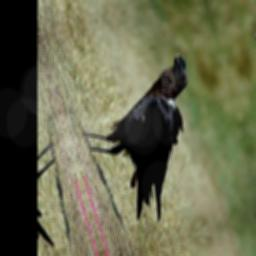Crow: (69, 51, 228, 236)
